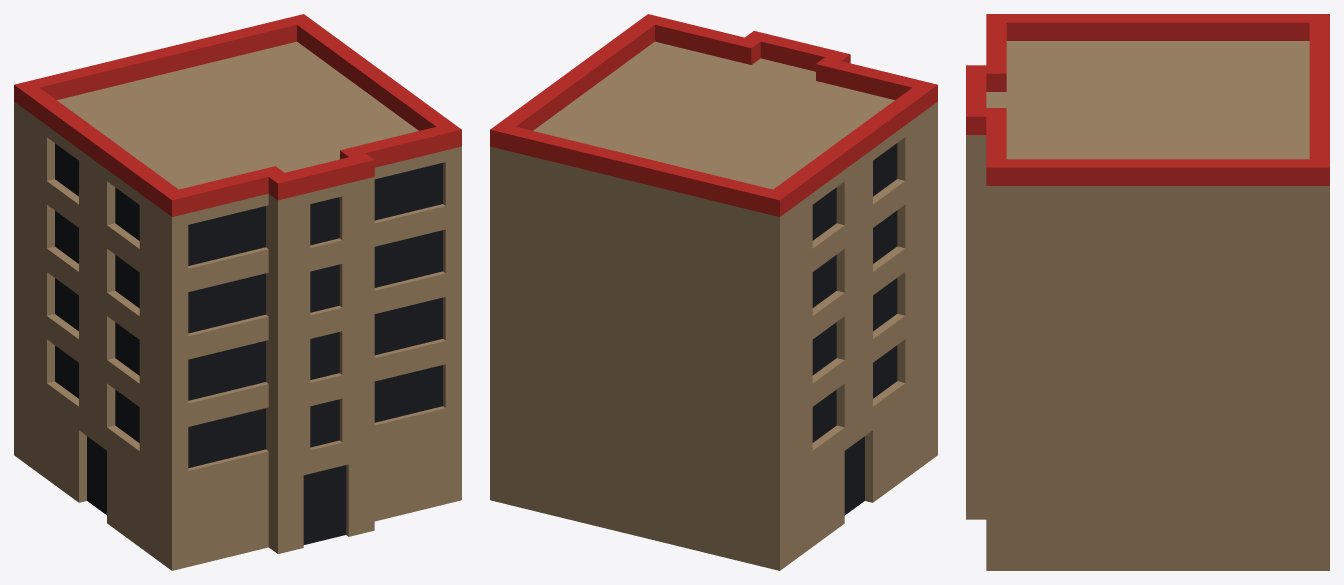
The model's file is Building-3.obj.
3 views of the same model, side by side, from view 1: azimuth 30°, elevation 25°; view 2: azimuth 150°, elevation 25°; view 3: azimuth 270°, elevation 25° (orthographic). The views are drawn at different scales.
Parts seen in each view (by area): view 1: Cube; view 2: Cube; view 3: Cube.
Part boxes in pixels (x1=…): Cube: x1=14, y1=14, x2=461, y2=570; Cube: x1=490, y1=14, x2=937, y2=570; Cube: x1=966, y1=14, x2=1329, y2=570.
Bounding box in the file's own units: 18 × 22 × 18.
